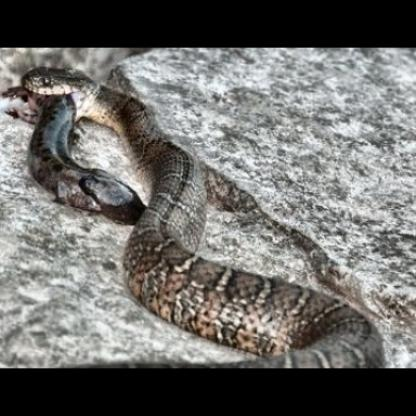Snake: (4, 65, 370, 361)
